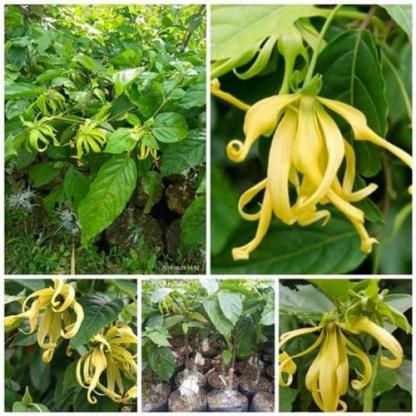Kenanga: (233, 81, 387, 246), (304, 304, 389, 393), (11, 301, 93, 361), (79, 325, 135, 398), (23, 112, 57, 160), (78, 122, 104, 156), (132, 129, 156, 159)
